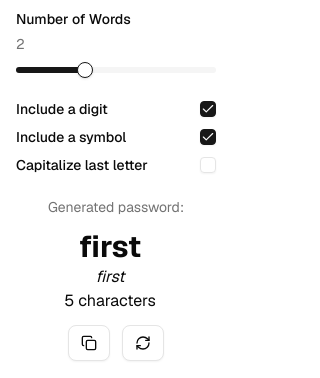
PasswordGen › clicking refresh generates a new password
Check: the text with test id "password-value" reads "first", box [79,227,141,266]
Click the button with test id "refresh-button" at point(143, 343), box [122,325,164,361]
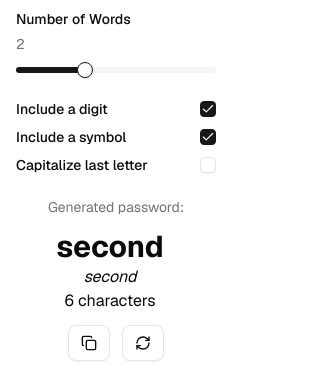
Check: the text with test id "password-value" reads "second", box [56,227,164,266]
